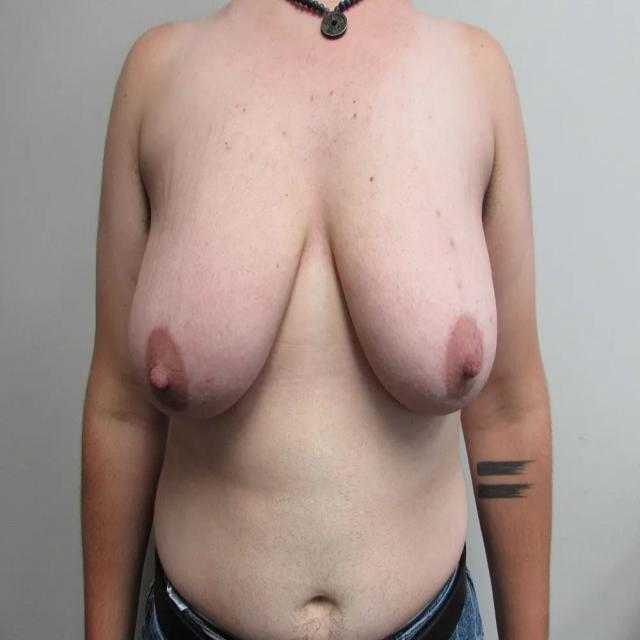Seno ileso: (123, 177, 314, 442), (319, 178, 503, 437)
